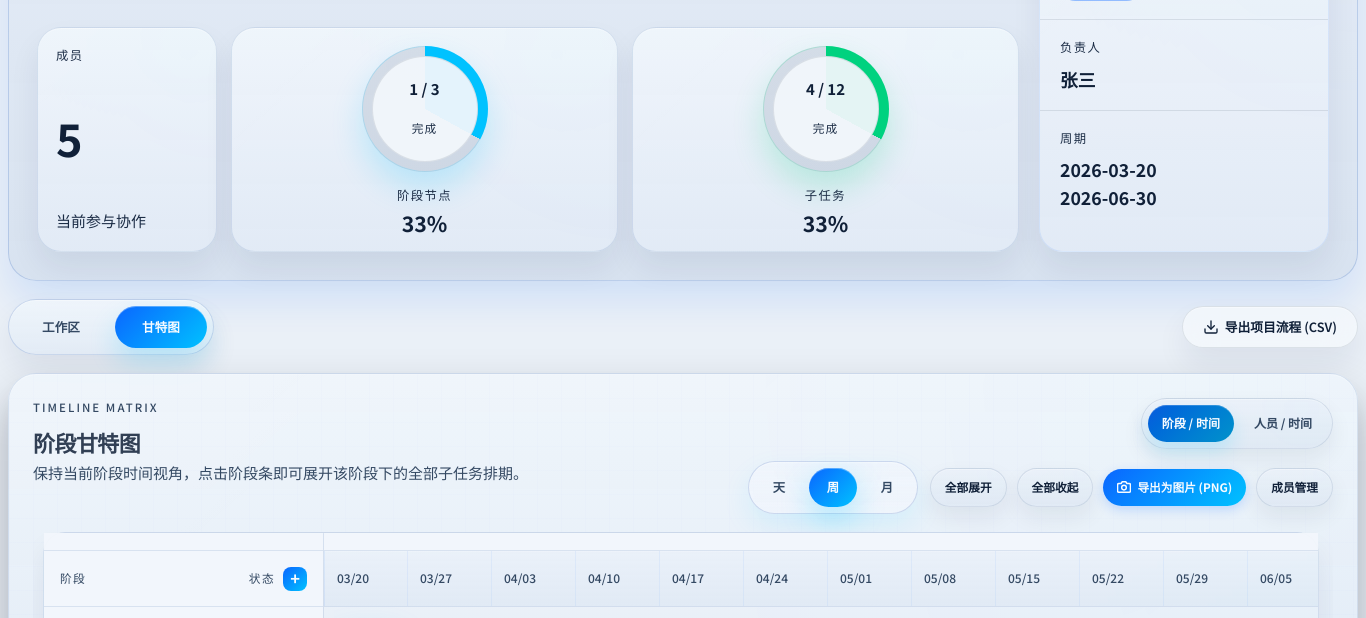
ProjectDetailView › expands all stage subtrees sequentially from top to bottom to avoid parallel gantt request spikes
Click the button with test id "project-gantt-expand-all".
click(968, 487)  # box [930,468,1007,507]
(page scrolled)
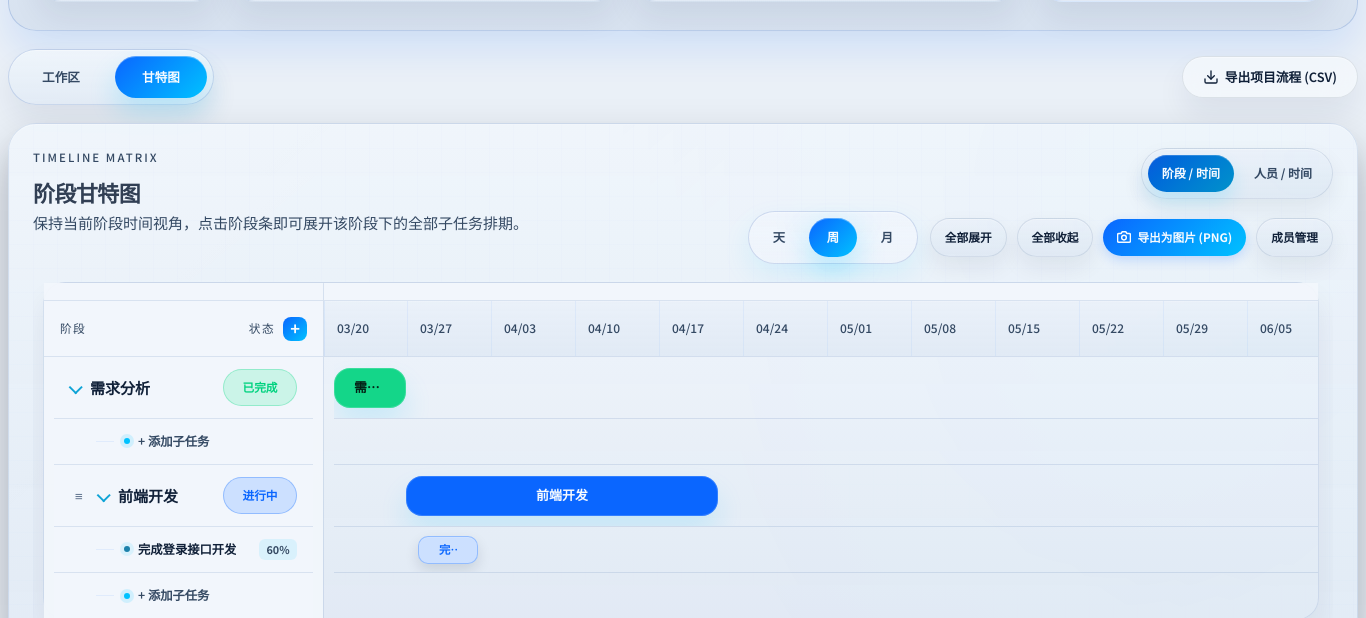
Expected: the button with test id "project-gantt-subtask-bar-3001" is shown, [418,536,478,564]
